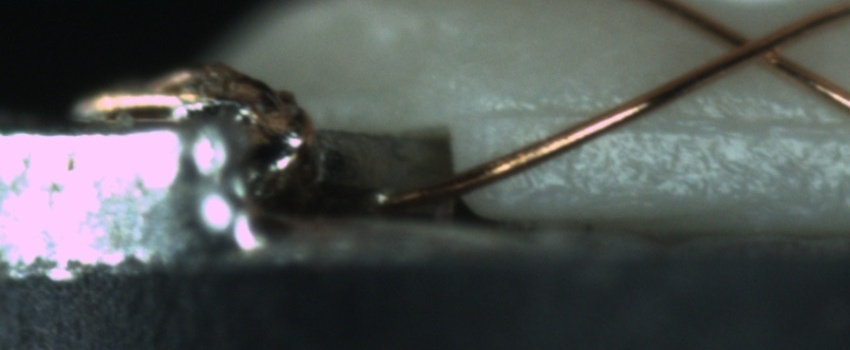CL: (711, 15, 806, 74)
DL: (480, 93, 849, 157)
TE: (69, 57, 221, 120)
